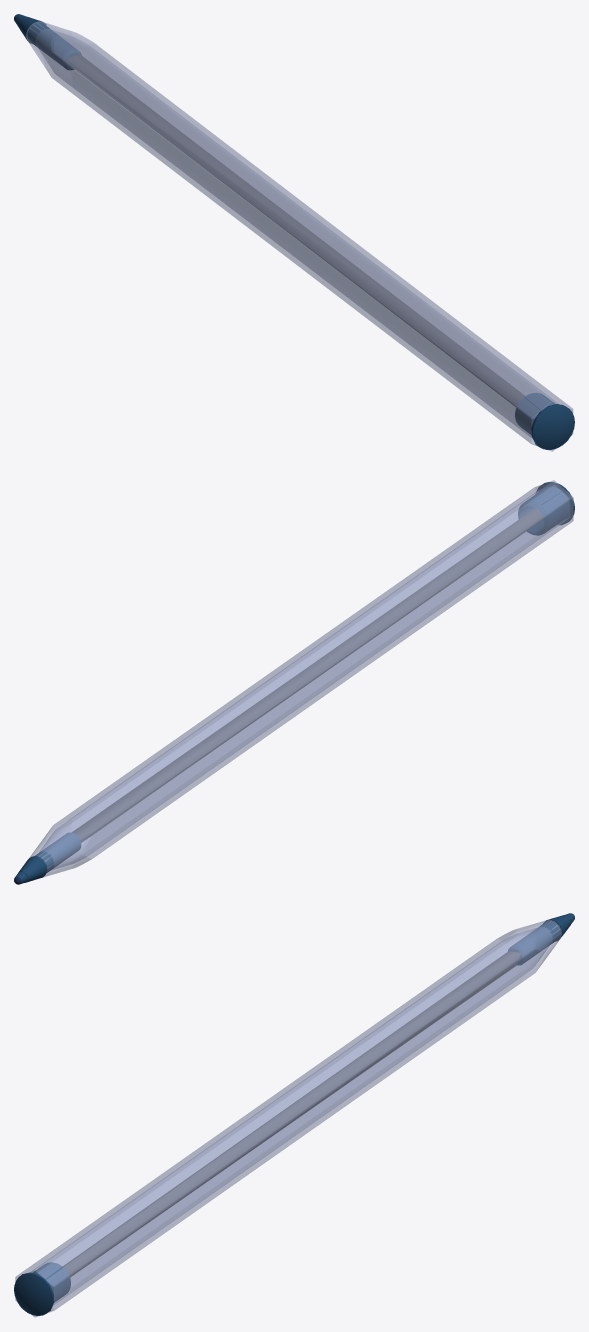
Rendered from pen.fbx.
3 renders of one model, top to bottom at view 1: azimuth 30°, elevation 25°; view 2: azimuth 150°, elevation 25°; view 3: azimuth 330°, elevation 25°, orthographic. The views are drawn at different scales.
Visible parts, largest first — view 1: Objet_16, Objet_15, Objet_10, Objet_13, Objet_14; view 2: Objet_16, Objet_15, Objet_14, Objet_13; view 3: Objet_16, Objet_15, Objet_10, Objet_13, Objet_14.
Part boxes in pixels (x1,y1,x2,y2): Objet_16: (26, 21, 573, 451); Objet_15: (66, 54, 524, 406); Objet_10: (531, 404, 574, 449); Objet_13: (17, 16, 81, 69); Objet_14: (515, 393, 574, 449); Objet_16: (29, 480, 573, 877); Objet_15: (72, 508, 543, 842); Objet_14: (518, 482, 574, 535); Objet_13: (18, 832, 80, 882); Objet_16: (15, 919, 561, 1317); Objet_15: (63, 951, 520, 1277); Objet_10: (14, 1272, 54, 1315); Objet_13: (508, 915, 571, 965); Objet_14: (14, 1262, 70, 1315).
Size of the model in its own units: 0.5195 by 0.4307 by 8.61.
